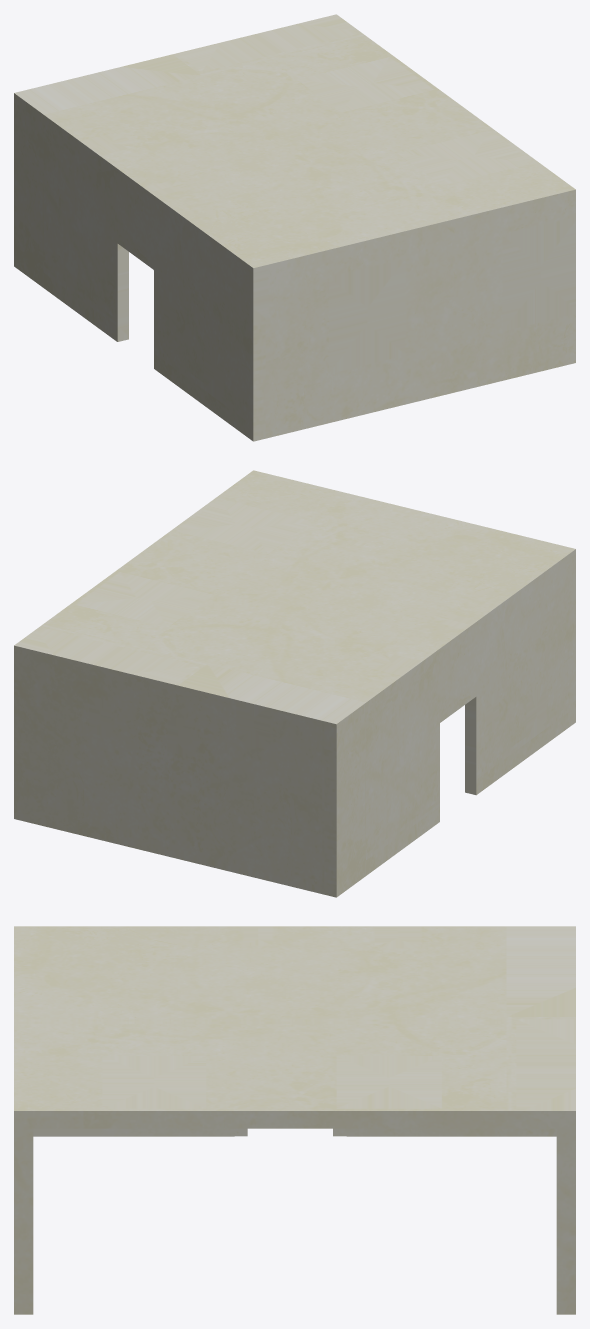
The model's file is Security_Room.fbx.
3 views of the same model, one above another, from view 1: azimuth 30°, elevation 25°; view 2: azimuth 150°, elevation 25°; view 3: azimuth 270°, elevation 25° (orthographic). The views are drawn at different scales.
Visible parts, largest first — view 1: pCube16; view 2: pCube16; view 3: pCube16.
Boxes of the visible parts, left/top/right/bottom form: pCube16: left=14, top=14, right=575, bottom=441; pCube16: left=14, top=470, right=575, bottom=897; pCube16: left=14, top=926, right=575, bottom=1314.
Bounding box in the file's own units: 2800 × 1439 × 3600.
1 material, 1 textured.
